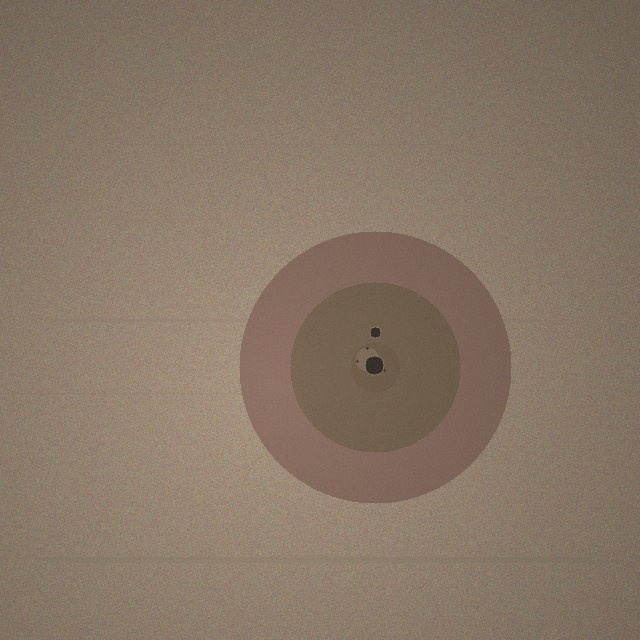shrinkage: (239, 231, 511, 503)
